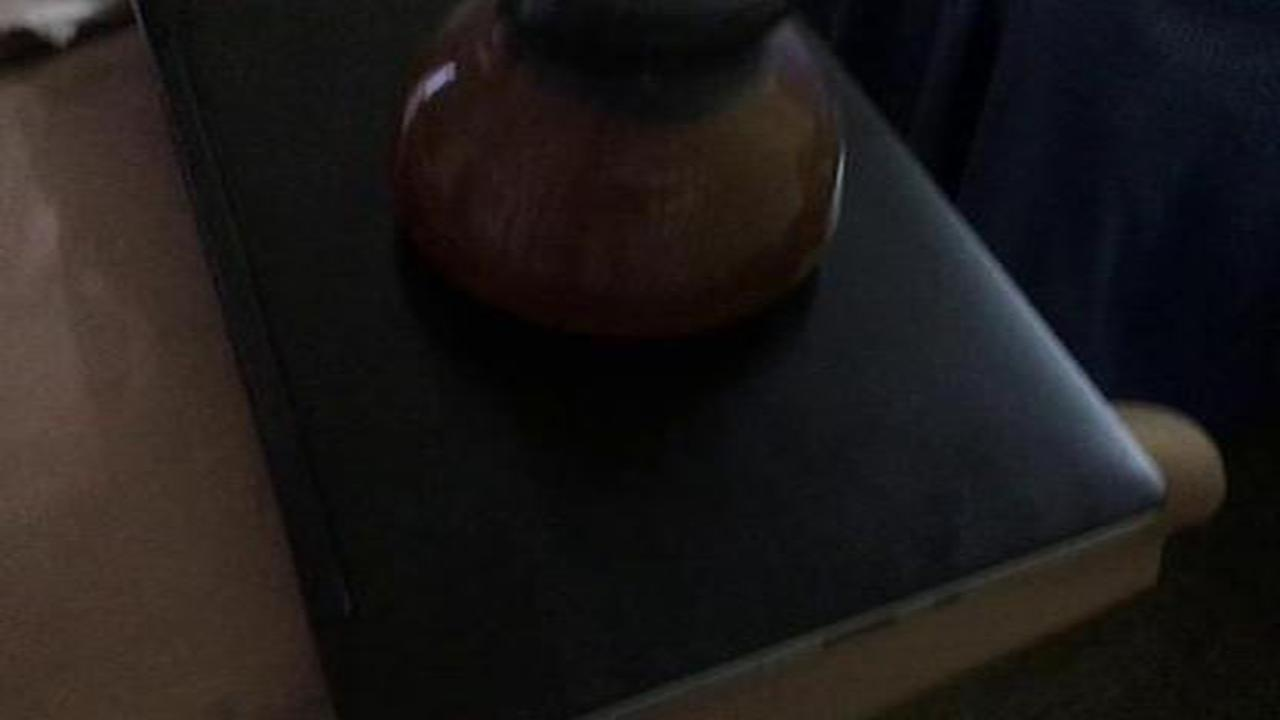insulator_pin: (379, 7, 865, 343)
